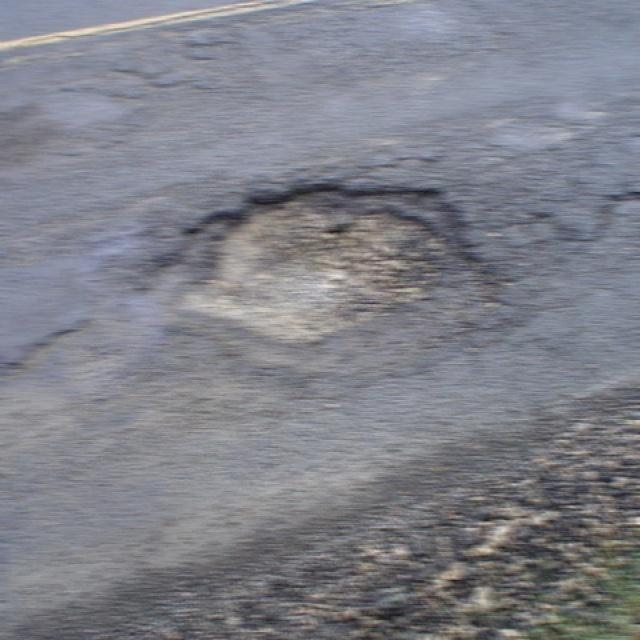Pothole: (118, 155, 557, 406), (0, 313, 91, 387), (597, 182, 640, 226)
